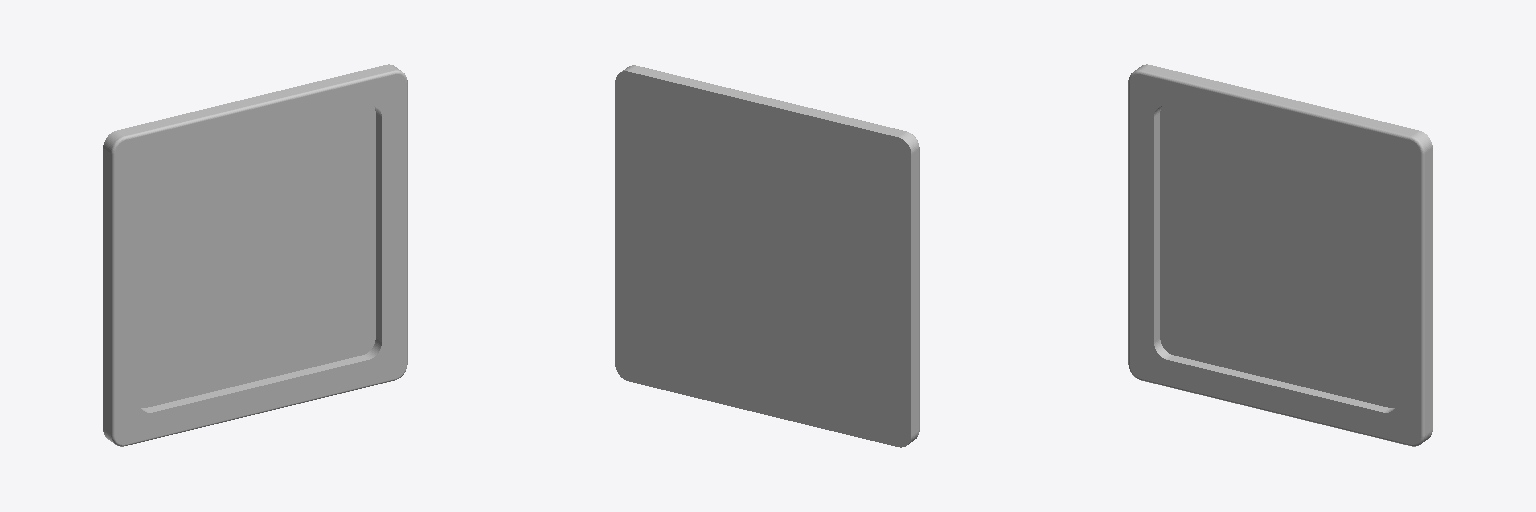
The model's file is Button_base.obj.
3 renders of one model, left to right at view 1: azimuth 30°, elevation 25°; view 2: azimuth 150°, elevation 25°; view 3: azimuth 330°, elevation 25°, orthographic.
Visible parts, largest first — view 1: Body1; view 2: Body1; view 3: Body1.
Boxes of the visible parts, x1=… form: Body1: x1=103, y1=64, x2=407, y2=446; Body1: x1=615, y1=65, x2=919, y2=447; Body1: x1=1128, y1=64, x2=1432, y2=446.
Bounding box in the file's own units: 55 × 55 × 3.